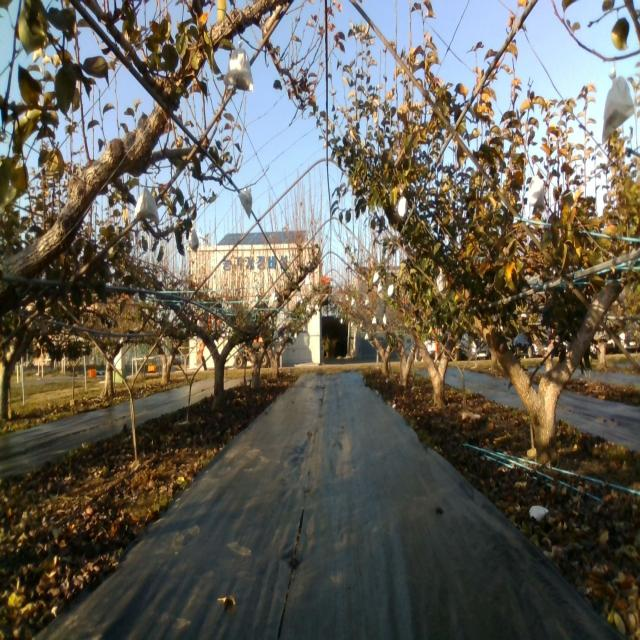pearbags: (603, 75, 636, 141), (225, 41, 254, 98), (134, 186, 160, 222), (528, 176, 546, 208), (238, 187, 252, 219), (187, 223, 199, 254), (397, 195, 408, 225)
